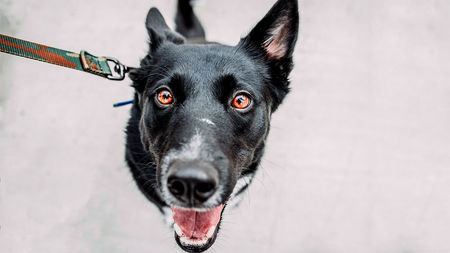dog: (119, 1, 298, 251)
